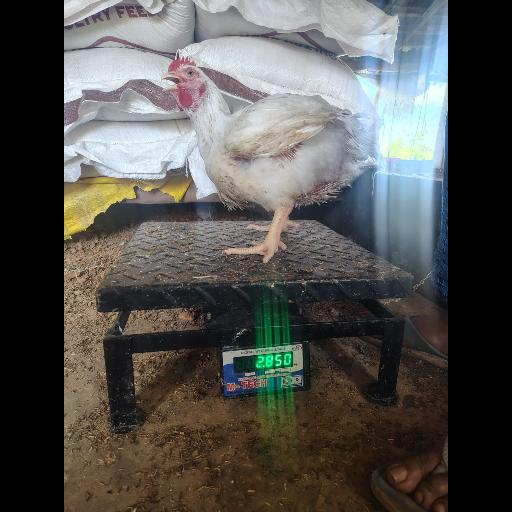chick: (161, 56, 383, 263)
